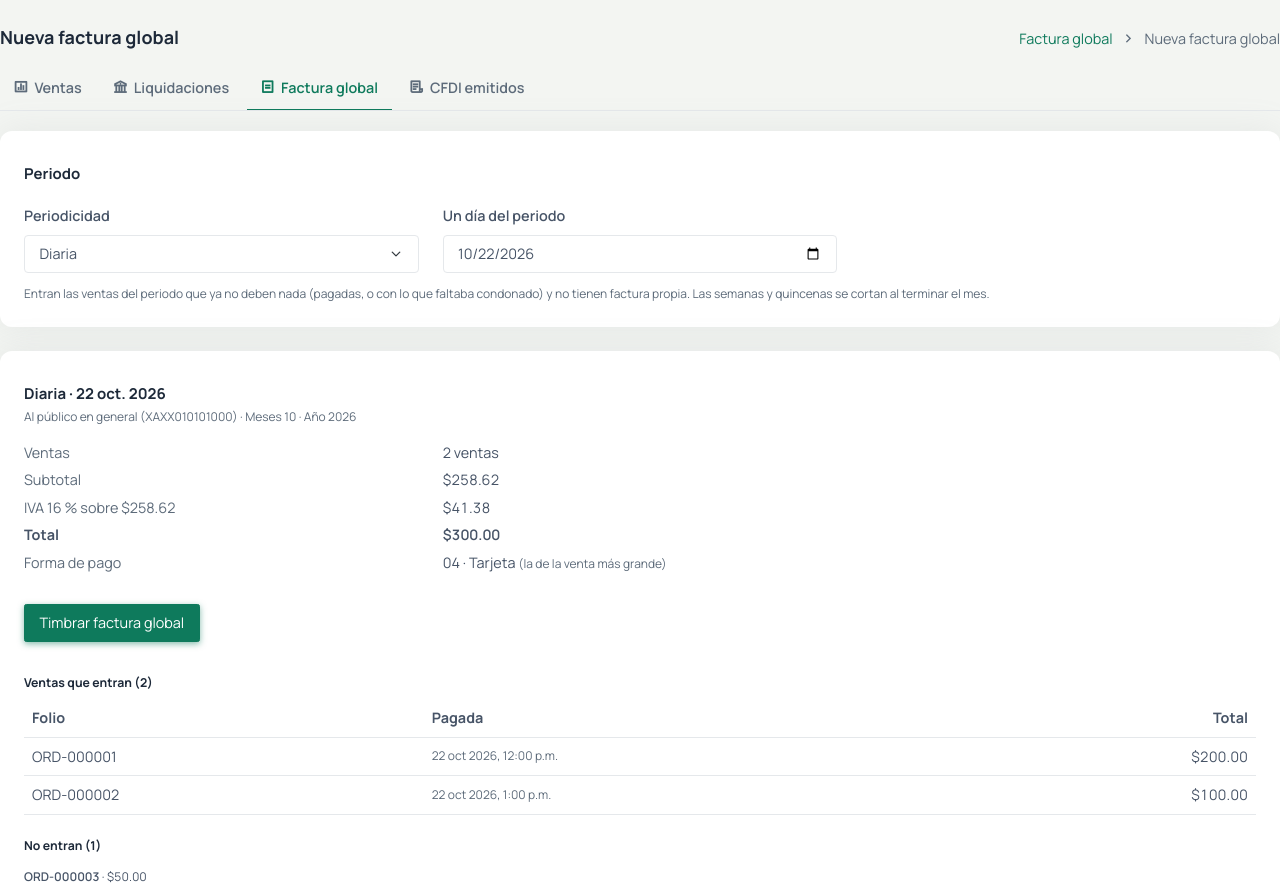
Test: NewGlobalInvoice › asks for nothing while the year being typed is not one the SAT takes
Expected: the text "ORD-000002" is shown, [24,776,424,814]
Type "0202-10-22" into the date field labelled "Un día del periodo" at [640, 254], box [443,235,837,273]
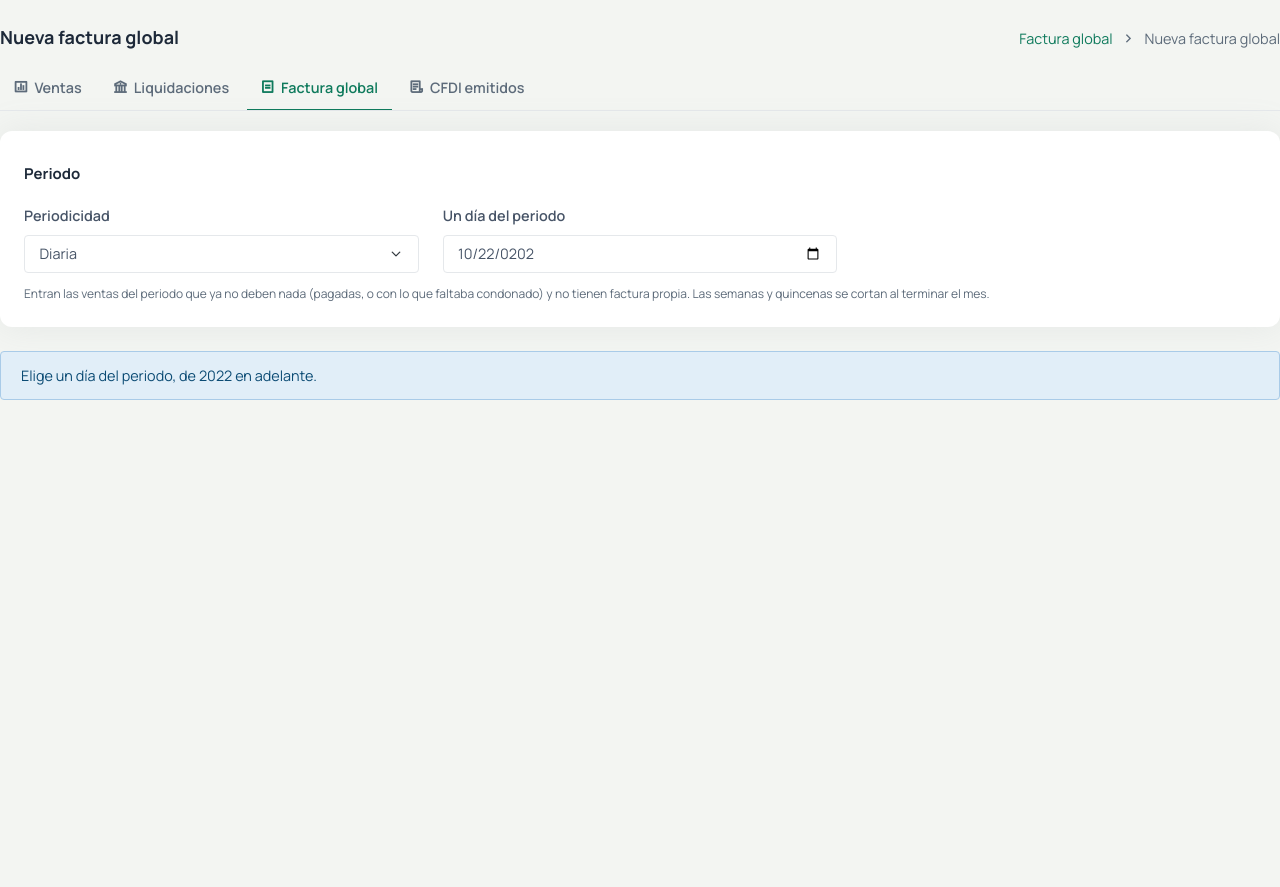
Result: the text "Elige un día del periodo, de 2022 en adelante." is shown at [0,351,1279,400]
